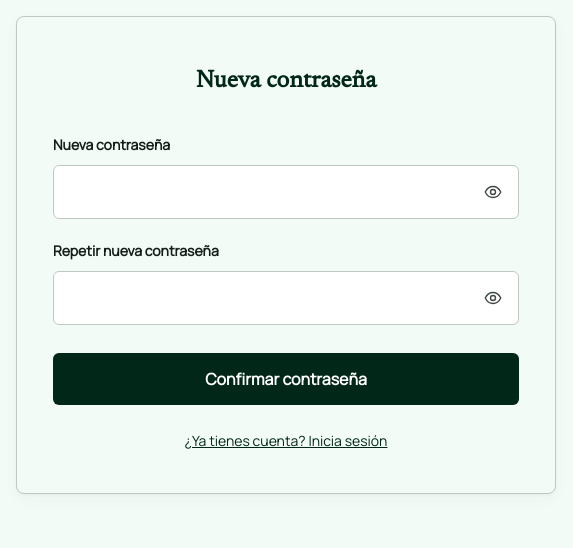
Test: ResetPassword Page - password visibility toggle › toggles password field independently without affecting sibling field (C7)
Type "NuevaClave123!" into the password field labelled "Nueva contraseña" at (286, 192), box [53, 165, 519, 219]
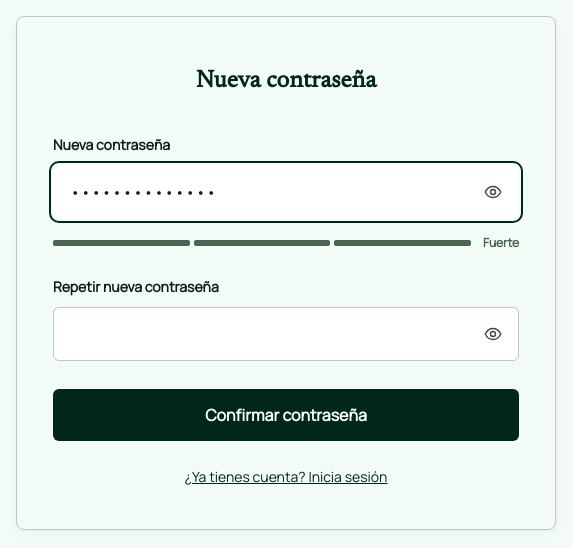
Type "NuevaClave123!" into the password field labelled "Repetir nueva contraseña" at (286, 334), box [53, 307, 519, 361]
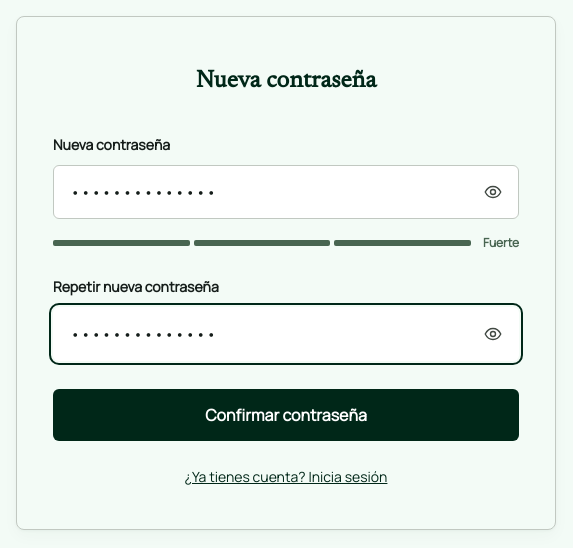
Click the 1st button named "Mostrar contraseña" at (493, 192), box [479, 178, 507, 206]
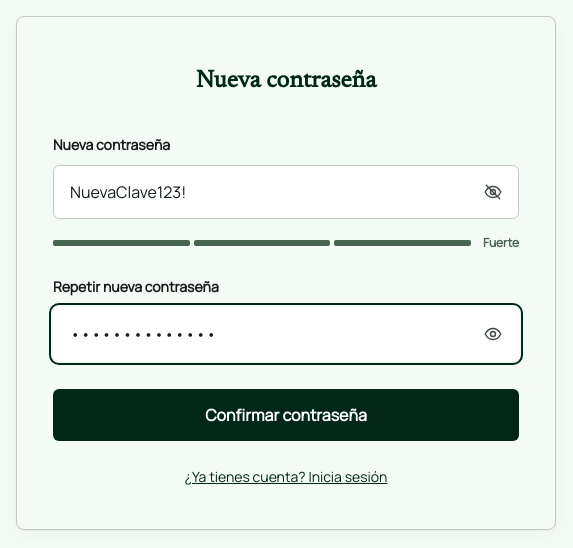
Result: the field labelled "Nueva contraseña" shows its text at [53, 165, 519, 219]
